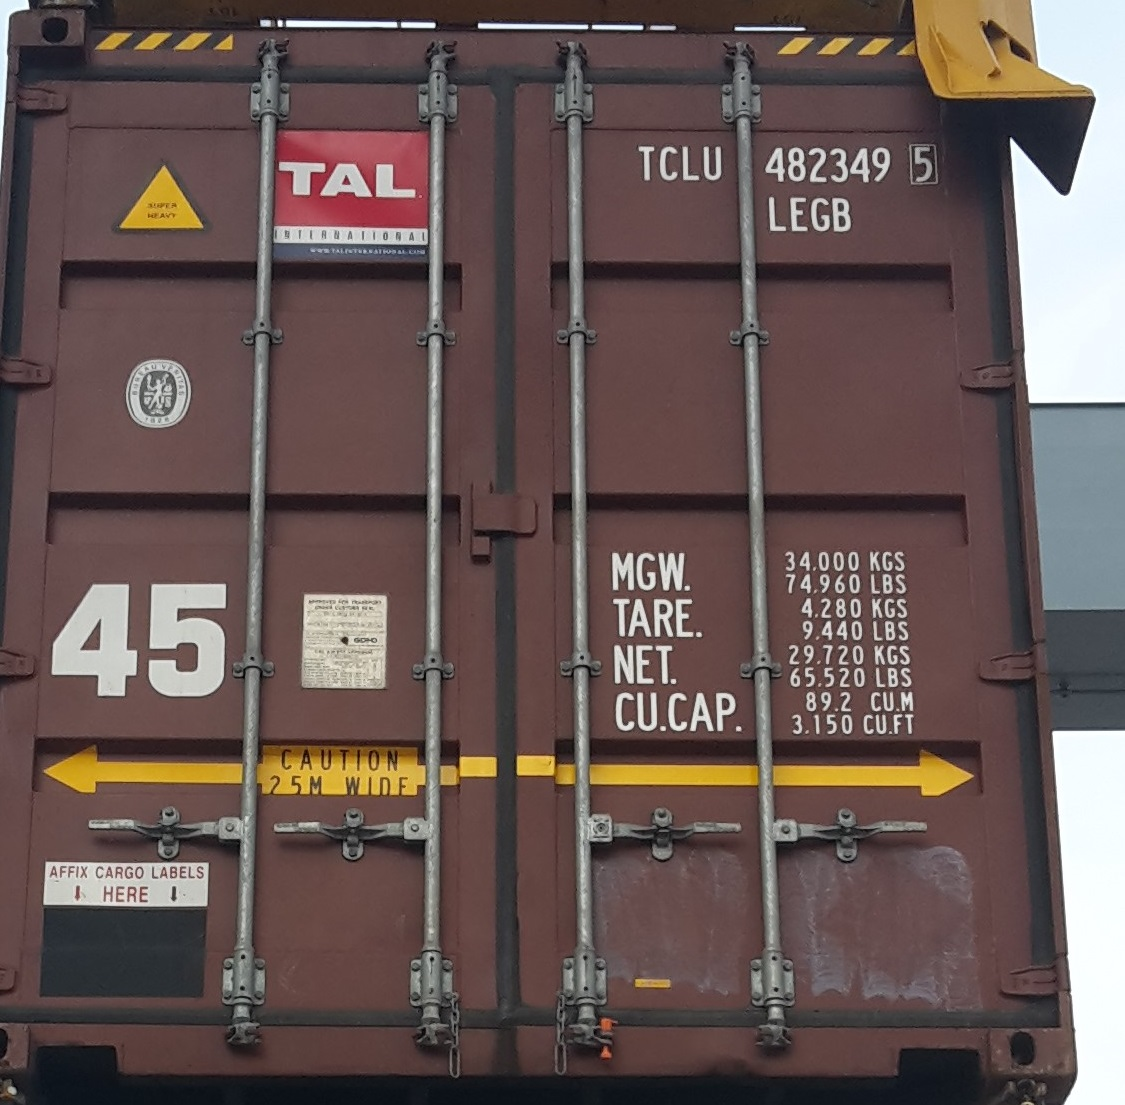container_door: (4, 6, 1075, 1101)
